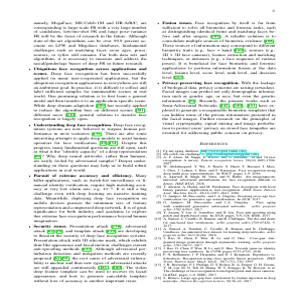text: (28, 17, 150, 287), (155, 19, 277, 289)
